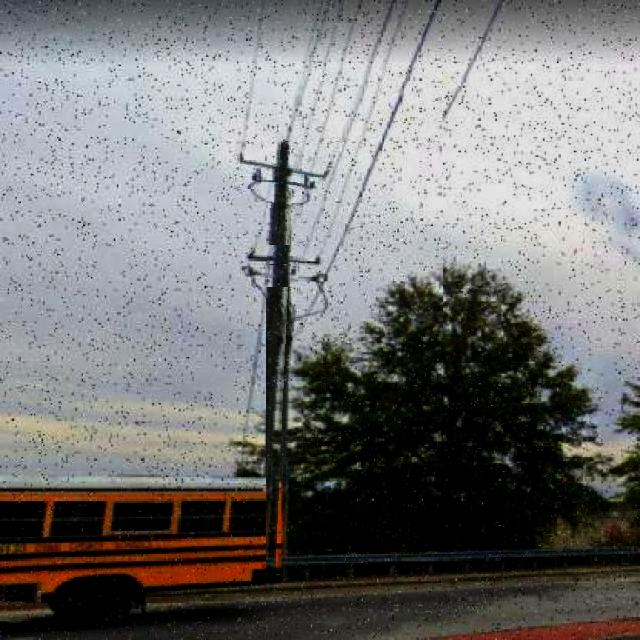crossarm: (234, 141, 333, 189), (240, 263, 327, 287), (245, 245, 319, 264)
pole: (266, 129, 291, 575)
wire: (298, 1, 443, 337)
